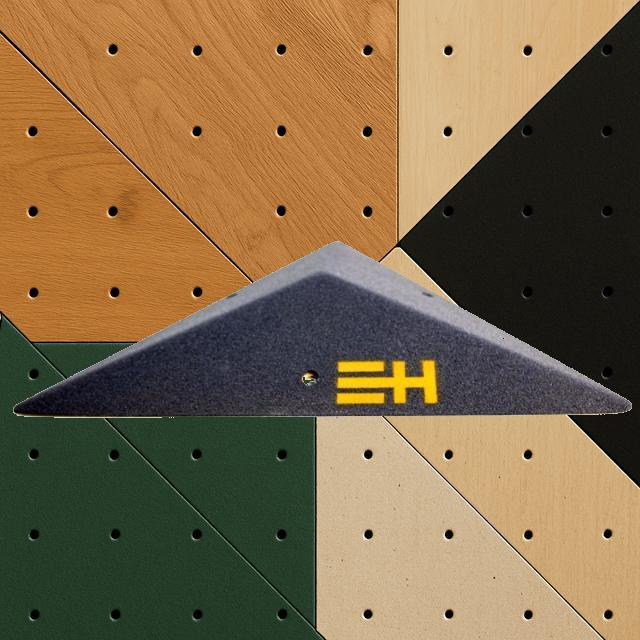Volume: (12, 238, 632, 418)
